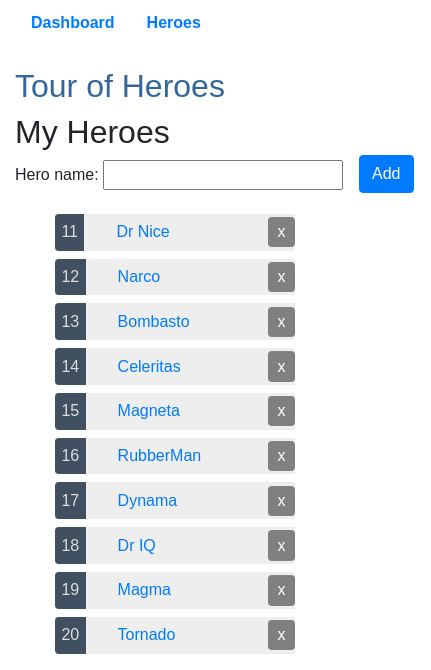
Test case: Tour of Heroes - E2E tests › Perform CRUD on Heroes › updates hero
Click the list item "20 Tornado x" at (175, 636), box [55,617,295,654]
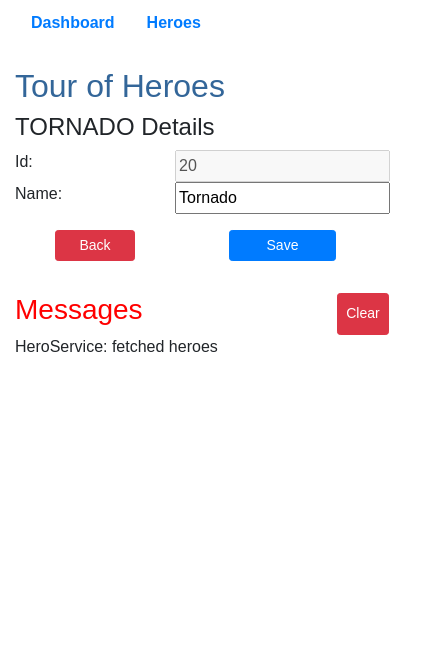
Replace the text in the field with id "heroName" with "Updated Hero" at (283, 198), box [175,182,390,214]
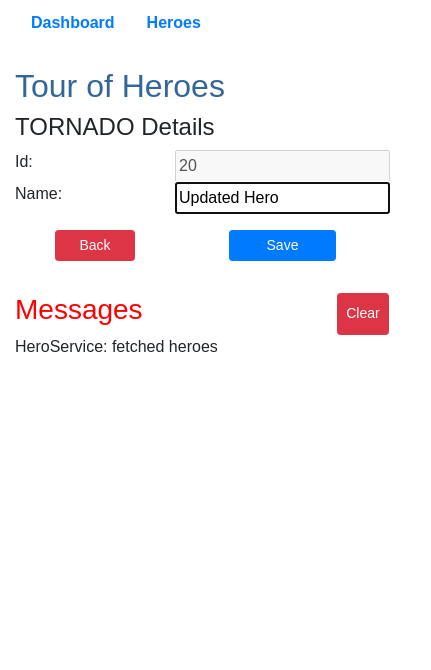
Click the button "Save" at (283, 246), box [229,230,337,261]
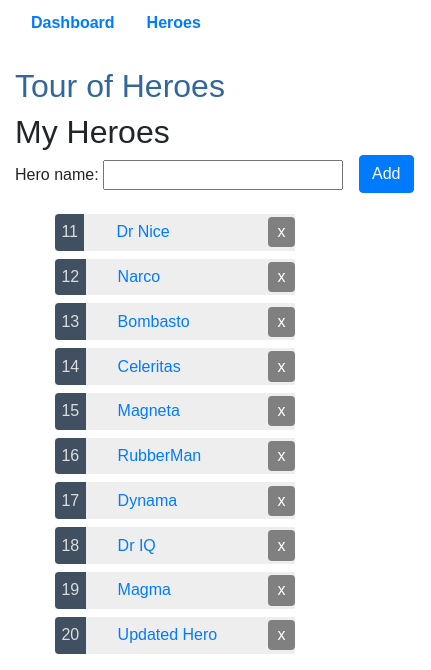
Now the link "20 Updated Hero" is shown, box [55,617,217,654]
